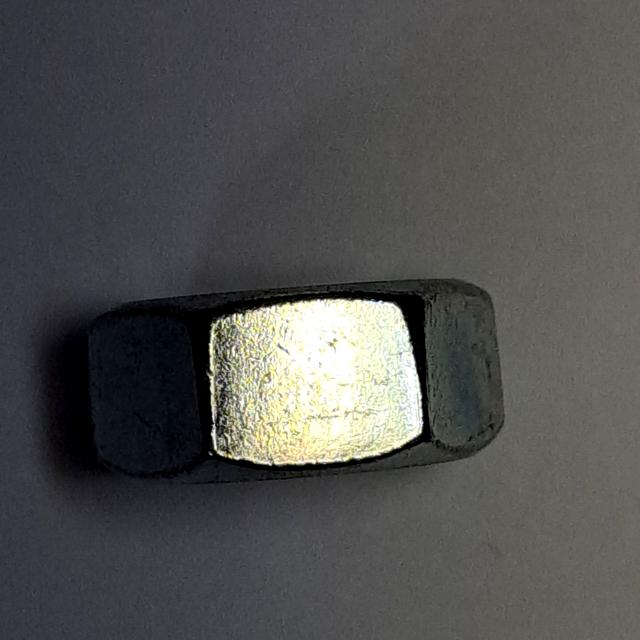Side_Excellent: (77, 250, 524, 519)
